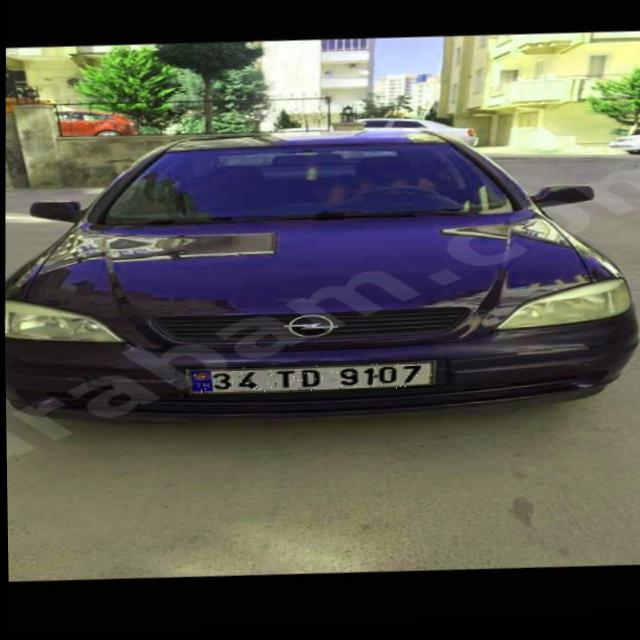license_plate: (186, 361, 433, 399)
